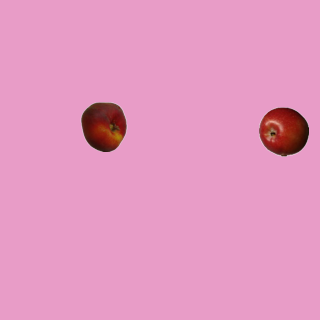Apple Braeburn: (258, 106, 308, 156)
Nectarine Flat: (78, 101, 128, 151)
